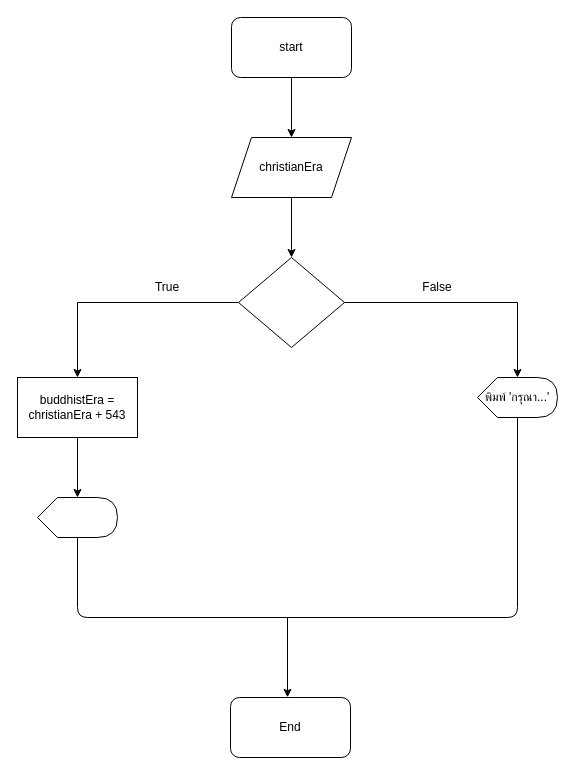
This 575x775 diagram has some shape labels left out. Each missing label, with the box of its shape:
buddhistEra: (36, 496, 118, 538)
christianEra >= 0: (238, 256, 344, 348)
